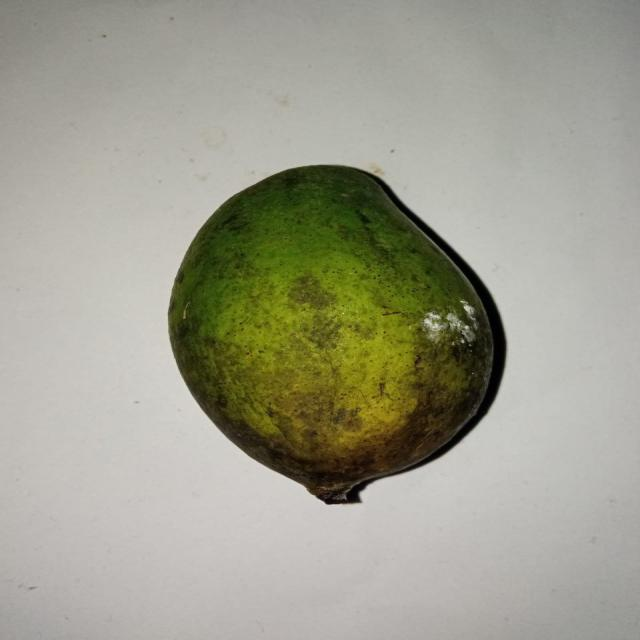rotten_mango: (164, 164, 498, 500)
